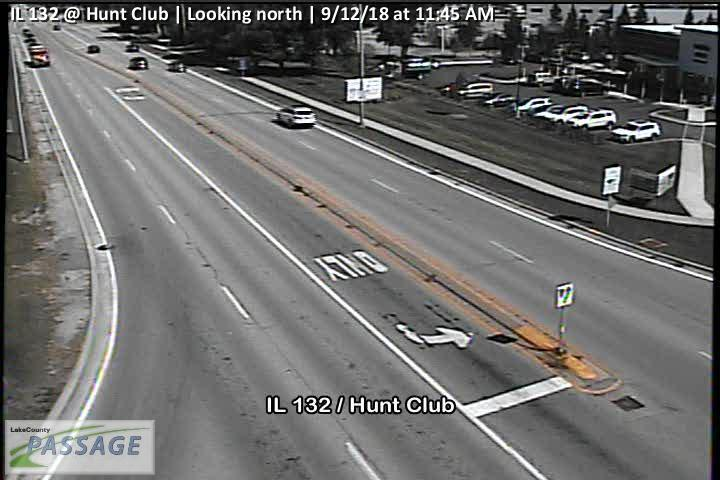SUV: (608, 118, 661, 143), (534, 103, 588, 126), (566, 107, 617, 131), (563, 75, 613, 97), (276, 104, 316, 128), (512, 96, 552, 113), (528, 68, 562, 88), (456, 81, 494, 98), (127, 56, 148, 70)
Sedan: (480, 92, 519, 108)
Truck: (375, 56, 433, 82), (28, 43, 50, 67)
